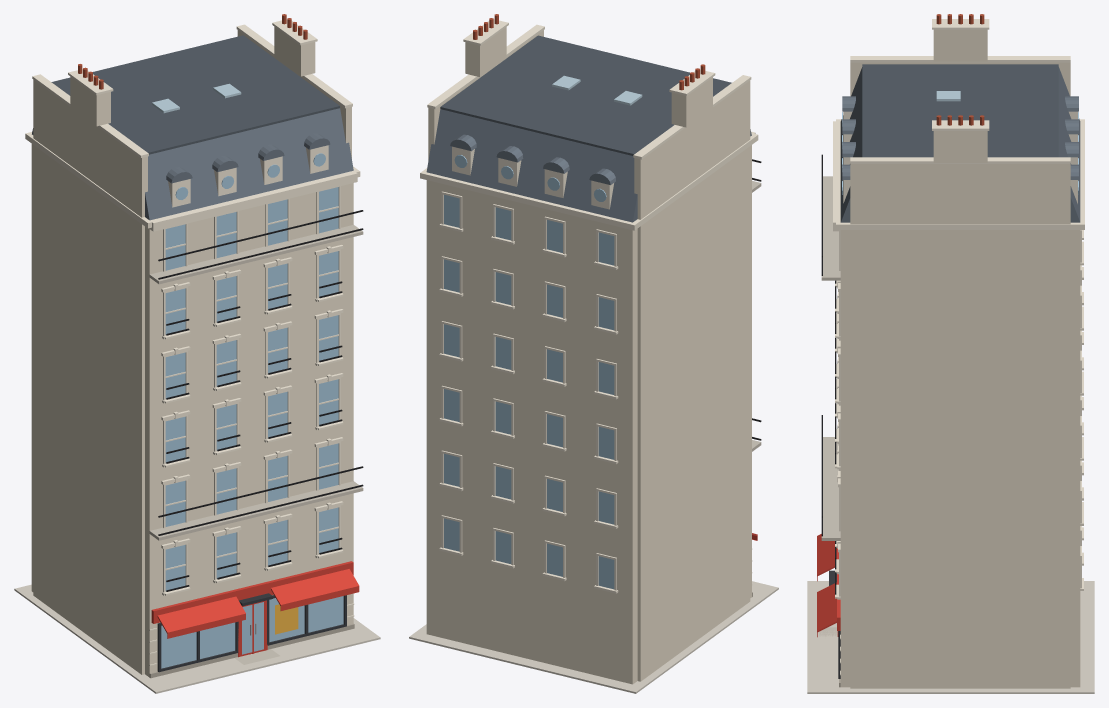
Rendered from Konut_ref_kubbeli_Hafif.fbx.
The picture shows the model from 3 angles, left to right: view 1: azimuth 30°, elevation 25°; view 2: azimuth 150°, elevation 25°; view 3: azimuth 270°, elevation 25°; orthographic projection.
Parts seen in each view (by area): view 1: Konut_ref_kubbeli_Hafif; view 2: Konut_ref_kubbeli_Hafif; view 3: Konut_ref_kubbeli_Hafif.
Boxes of the visible parts, left/top/right/bottom form: Konut_ref_kubbeli_Hafif: left=14, top=14, right=380, bottom=693; Konut_ref_kubbeli_Hafif: left=409, top=14, right=778, bottom=693; Konut_ref_kubbeli_Hafif: left=807, top=14, right=1094, bottom=693.
Size of the model in its own units: 11 by 26.42 by 12.
